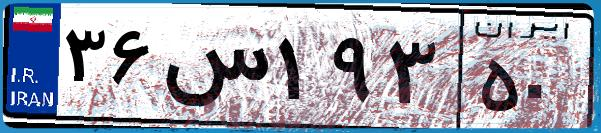0: (525, 38, 570, 115)
1: (270, 28, 330, 110)
3: (385, 28, 445, 110), (57, 26, 110, 100)
5: (475, 38, 525, 113)
6: (110, 28, 158, 98)
9: (330, 28, 385, 110)
س: (158, 20, 270, 120)
